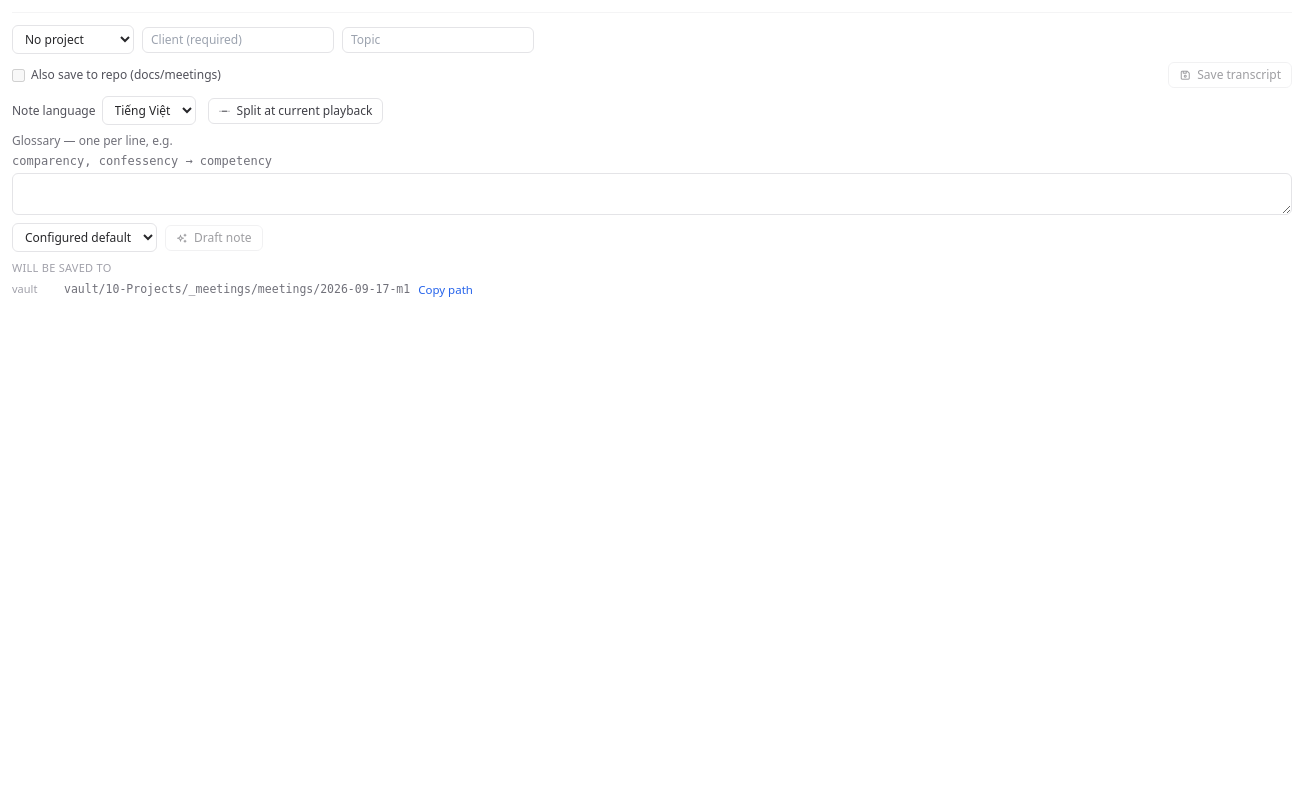
it: AC-10 — a dropped item is shown beside the editor, not inside it › lists the dropped text under 'không có trong bản ghi' and keeps it out of the markdown
The image size is (1304, 800).
Select "Mantu · ABCV2" in the dropdown named "Project or workspace" at point(73, 40), box [12,25,134,54]
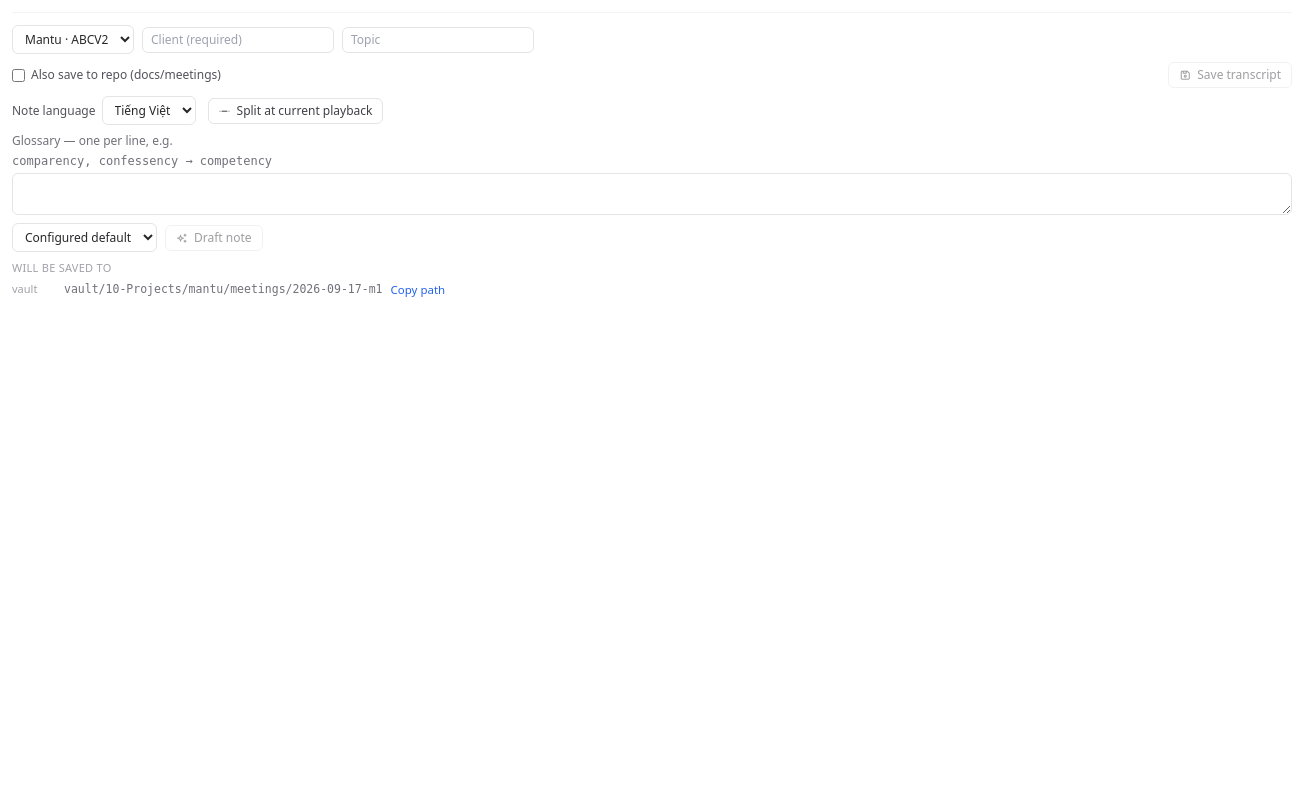
Type "Chị Kate" into the field labelled "Client" at point(238, 40), box [142,26,334,52]
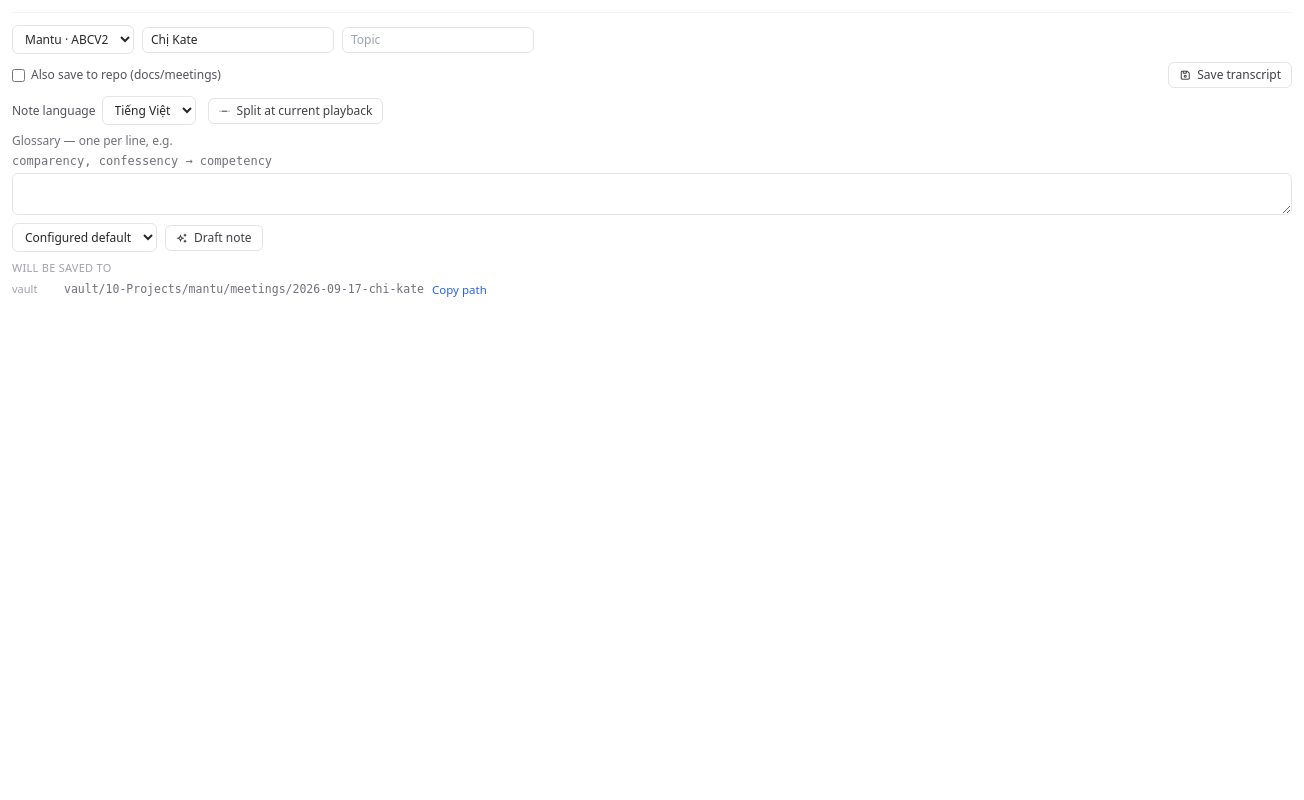
Click the button "Draft note" at point(214, 238), box [165,224,263,250]
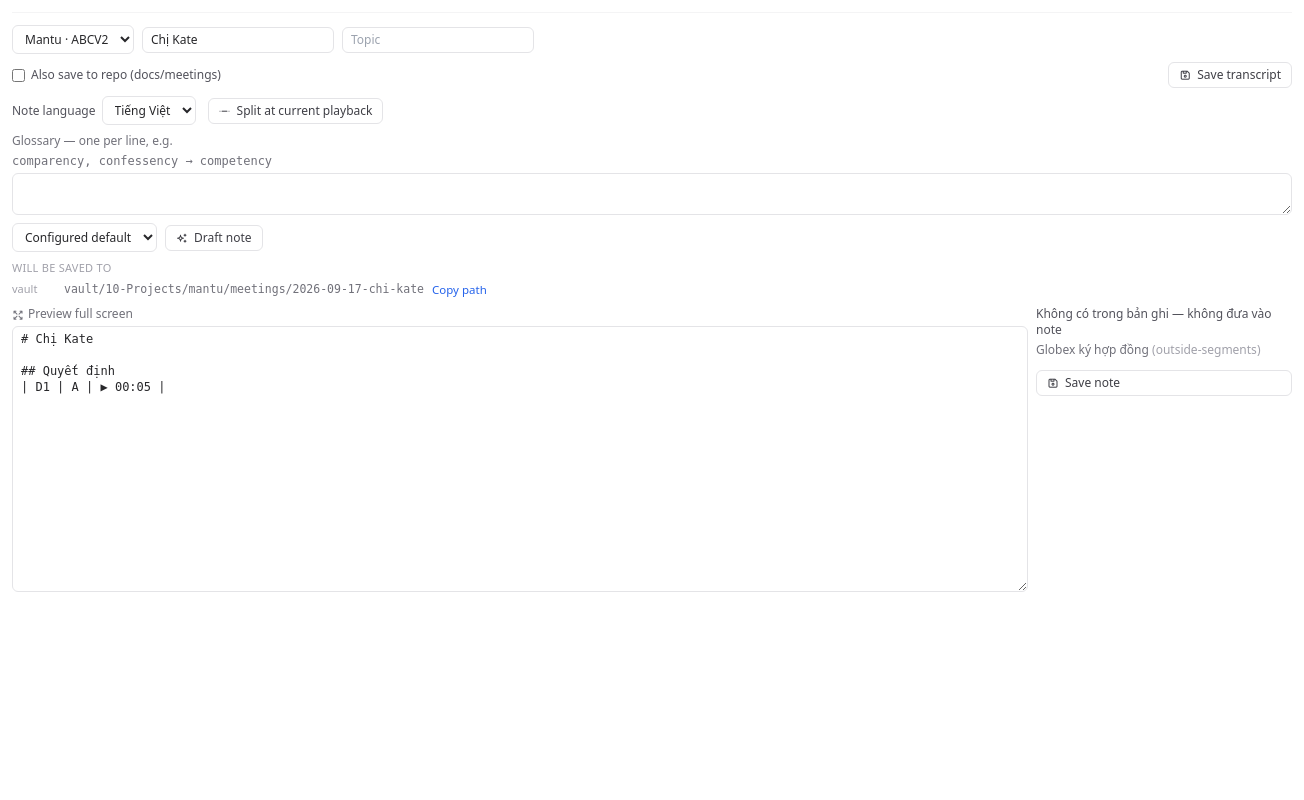
Check: the list with test id "note-dropped" shows "Globex ký hợp đồng", box [1036,341,1149,358]
Check: the text "Không có trong bản ghi — không đưa vào note" is shown, box [1036,306,1292,338]
